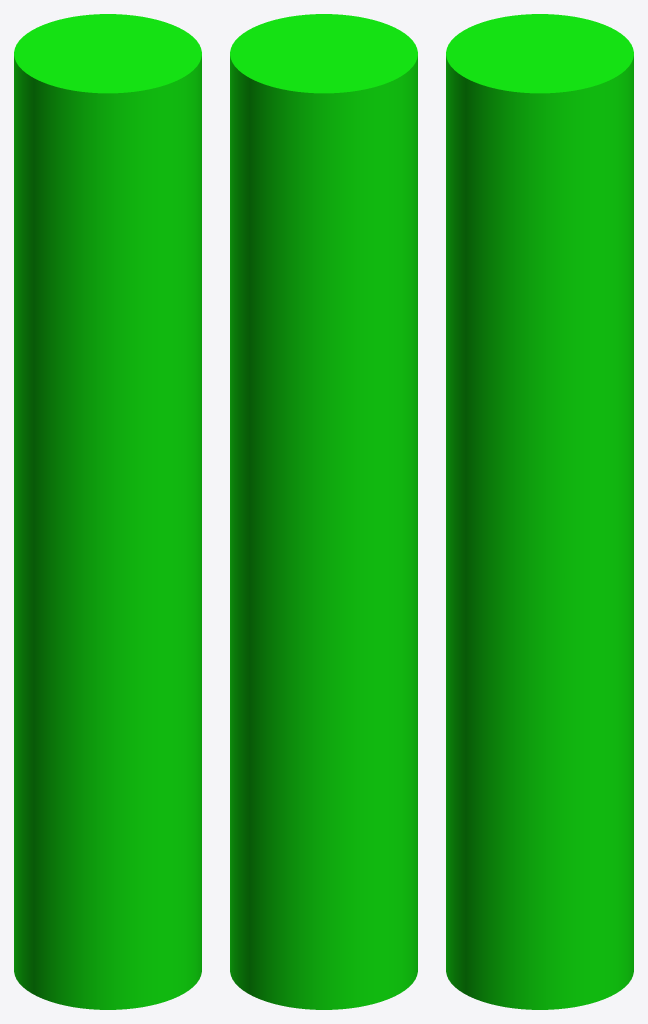
File: Laser.obj
The picture shows the model from 3 angles, left to right: view 1: azimuth 30°, elevation 25°; view 2: azimuth 150°, elevation 25°; view 3: azimuth 270°, elevation 25°; orthographic projection.
Parts seen in each view (by area): view 1: Cylinder001; view 2: Cylinder001; view 3: Cylinder001.
Part boxes in pixels (bbox=[...]): Cylinder001: bbox=[14, 14, 201, 1009]; Cylinder001: bbox=[230, 14, 417, 1009]; Cylinder001: bbox=[446, 14, 633, 1009].
Size of the model in its own units: 7.91 by 42.55 by 7.9.
